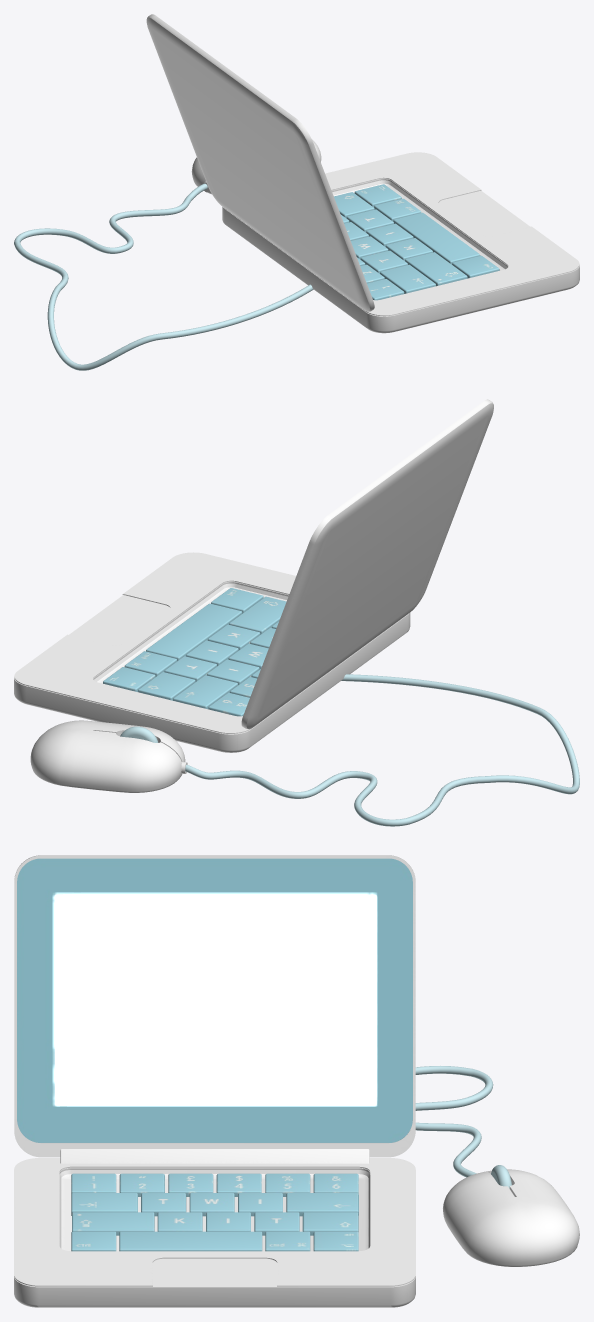
File: mini_macbook_pro.glb
The picture shows the model from 3 angles, top to bottom: view 1: azimuth 30°, elevation 25°; view 2: azimuth 150°, elevation 25°; view 3: azimuth 270°, elevation 25°; orthographic projection. The views are drawn at different scales.
Visible parts, largest first — view 1: MacBook_1, Muis_1; view 2: MacBook_1, Muis_1; view 3: MacBook_1, Muis_1.
Boxes of the visible parts, left/top/right/bottom form: MacBook_1: left=146, top=14, right=579, bottom=333; Muis_1: left=14, top=139, right=321, bottom=370; MacBook_1: left=14, top=399, right=493, bottom=752; Muis_1: left=30, top=674, right=579, bottom=826; MacBook_1: left=14, top=855, right=415, bottom=1307; Muis_1: left=415, top=1066, right=579, bottom=1266.
Bounding box in the file's own units: 580 × 334 × 521.
3 materials, 1 textured.
